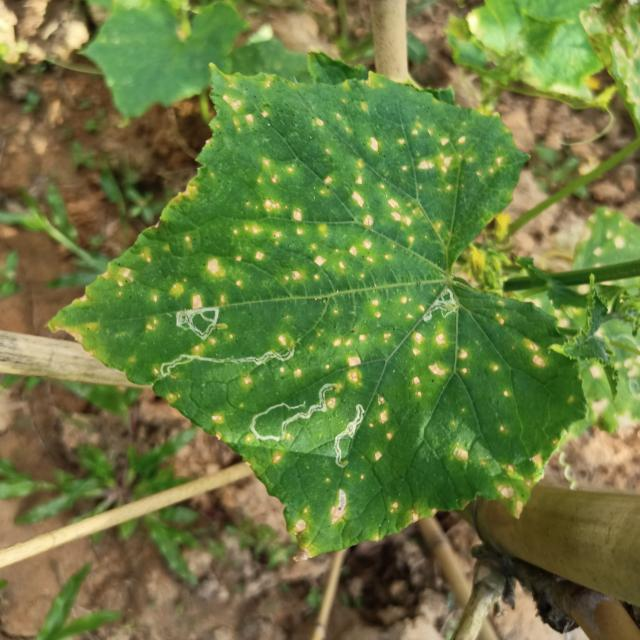disease_cucumber: (102, 92, 504, 300), (406, 311, 510, 406), (452, 422, 556, 516), (334, 295, 412, 387), (288, 487, 350, 566), (366, 395, 392, 466), (388, 498, 438, 527), (240, 364, 302, 386), (527, 338, 548, 372), (191, 337, 220, 355)
